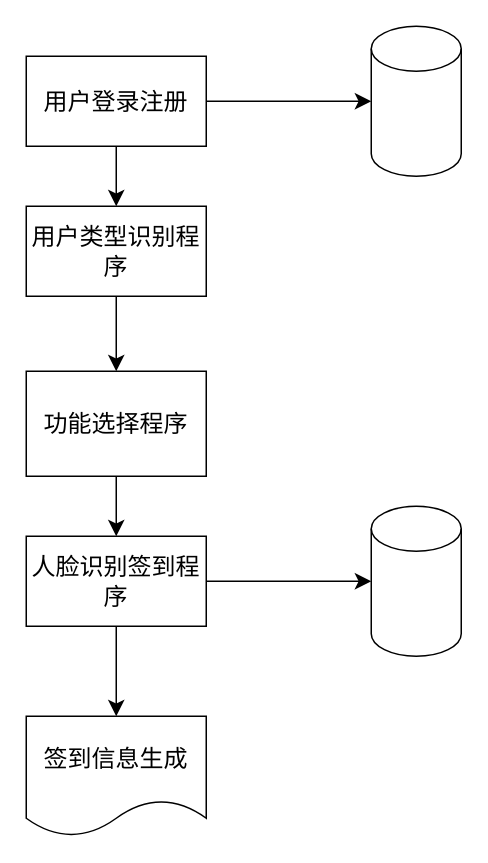
Image size: 488x863. Some labels were removed from this diagram. The shapes that lost their labels are listed below. From the top down, each one's centre as x and y in pixels, then its label:
At (415,100): "用户数据".
At (415,580): "签到数据".
